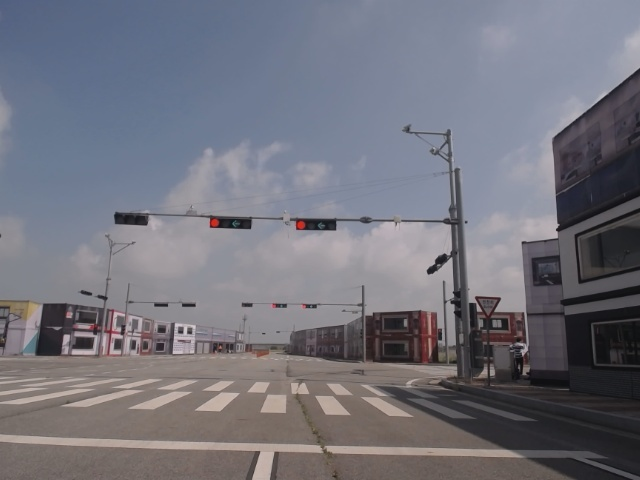left_green_4: (209, 217, 252, 229), (296, 219, 336, 230)
